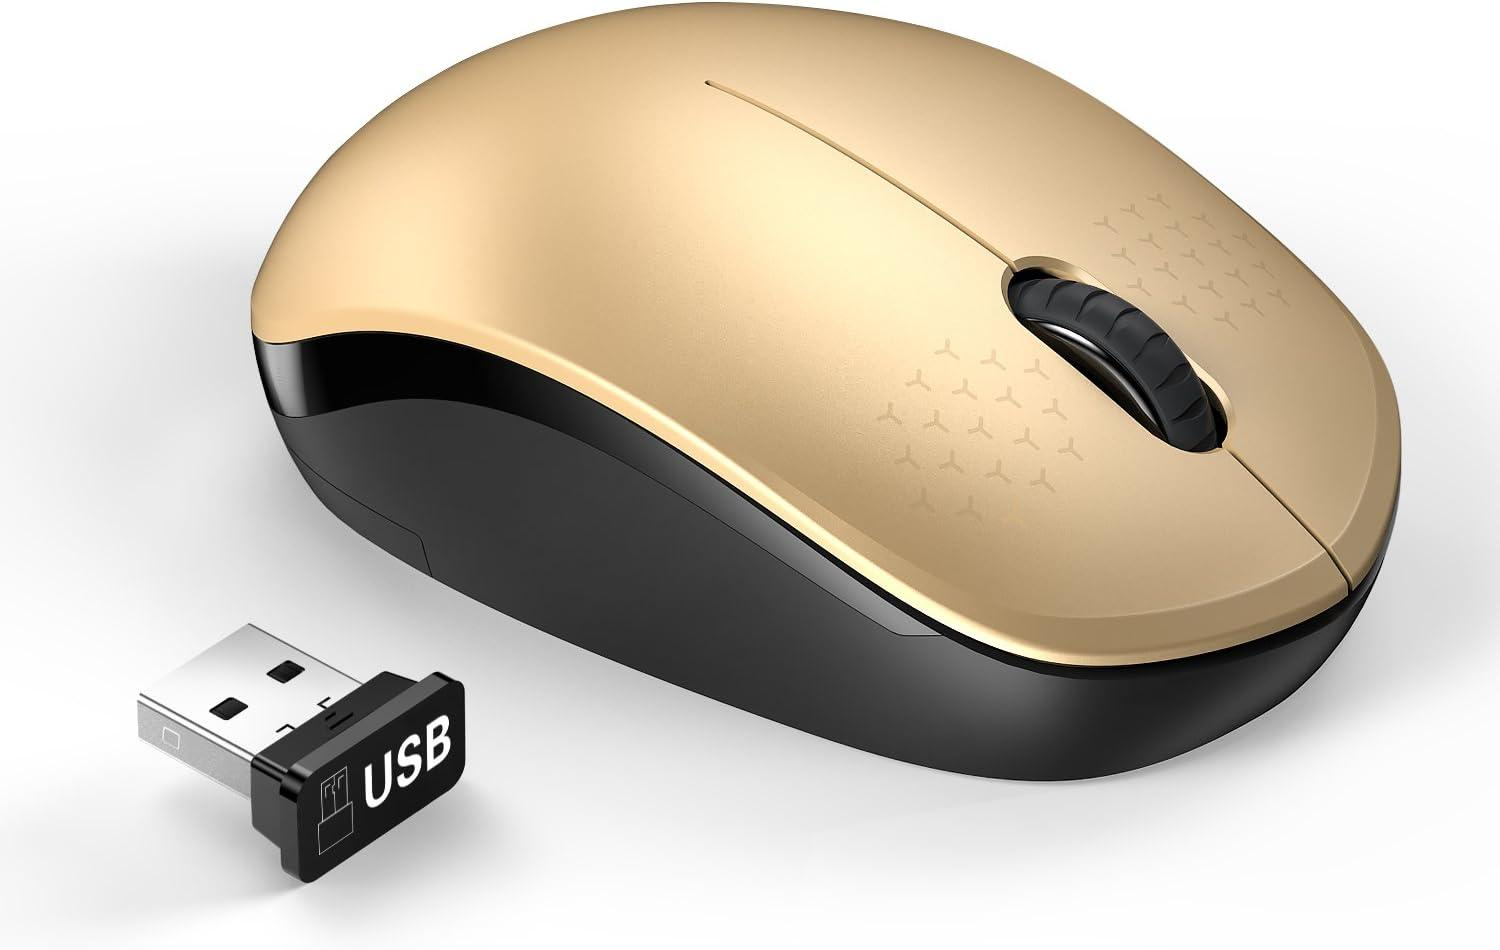computer mouse: (249, 4, 1405, 788)
